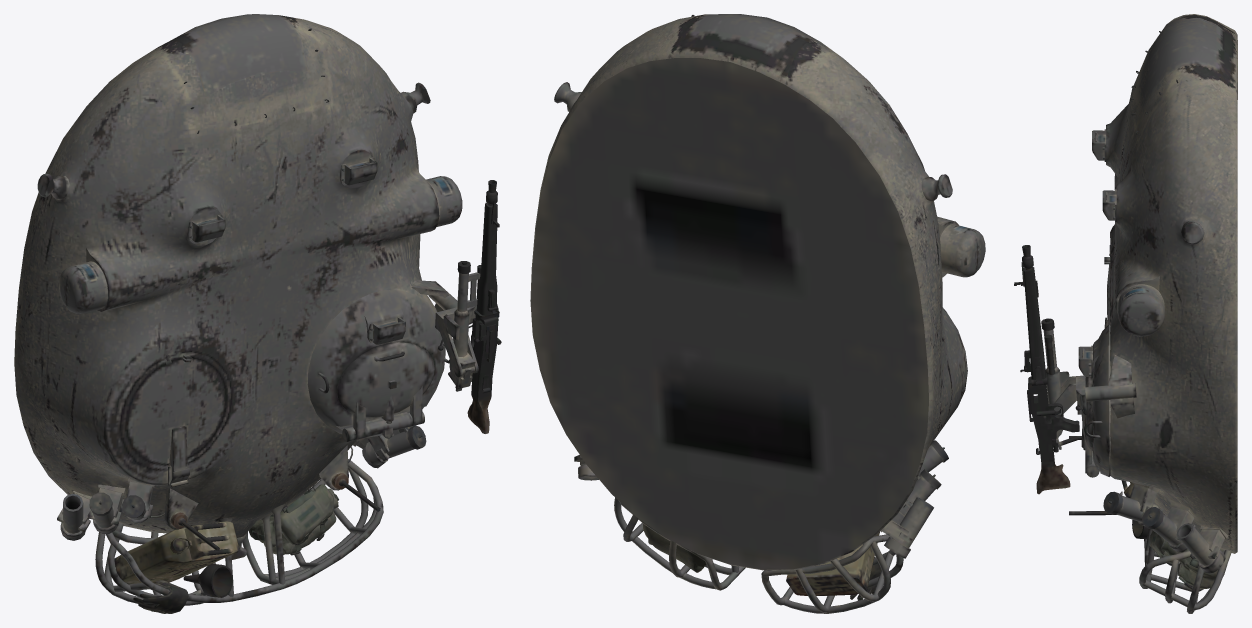
Rendered from Turret_01.glb.
3 views of the same model, side by side, from view 1: azimuth 30°, elevation 25°; view 2: azimuth 150°, elevation 25°; view 3: azimuth 270°, elevation 25° (orthographic). The views are drawn at different scales.
Visible parts, largest first — view 1: set_0_group_0; view 2: set_0_group_0; view 3: set_0_group_0.
Part boxes in pixels (x1,y1,x2,y2): set_0_group_0: [14, 14, 501, 613]; set_0_group_0: [530, 14, 985, 613]; set_0_group_0: [1014, 14, 1237, 613].
Size of the model in its own units: 1.99 by 2.72 by 1.01.
1 material, 1 textured.
